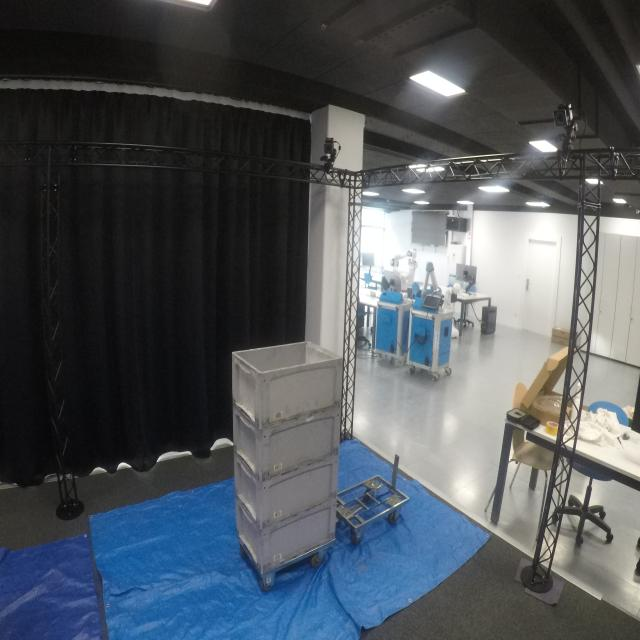Box4G: (228, 338, 346, 427), (231, 407, 342, 483), (233, 496, 337, 574), (233, 454, 342, 528)
